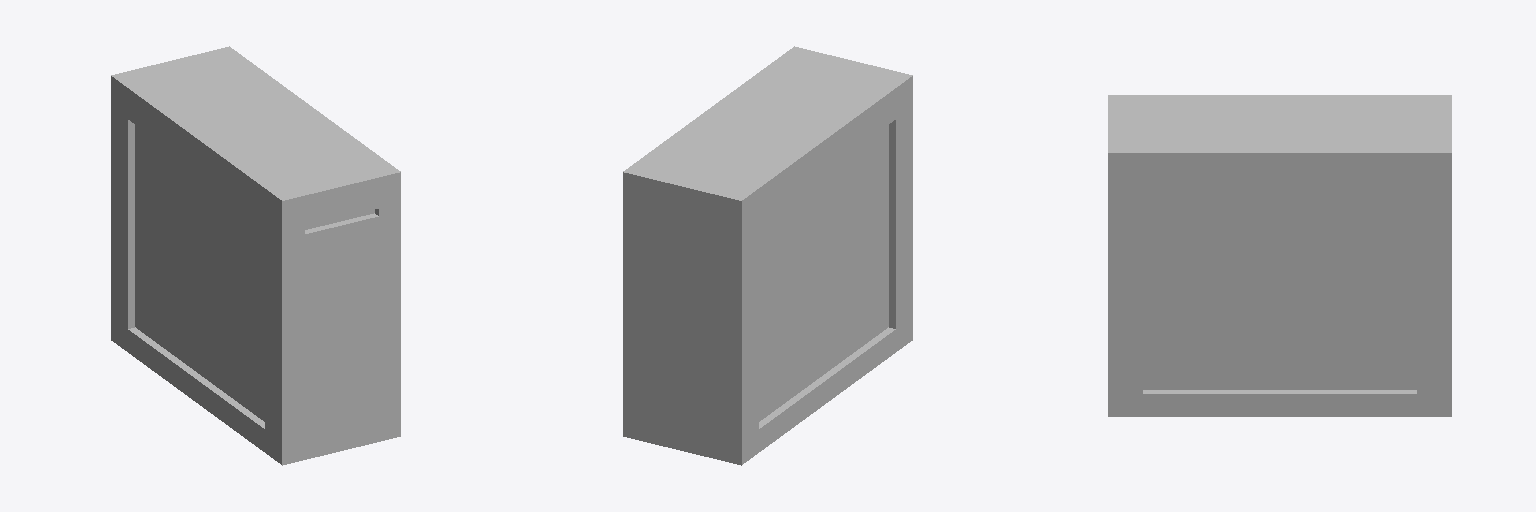
3 renders of one model, left to right at view 1: azimuth 30°, elevation 25°; view 2: azimuth 150°, elevation 25°; view 3: azimuth 270°, elevation 25°, orthographic.
Parts seen in each view (by area): view 1: PC; view 2: PC; view 3: PC.
Boxes of the visible parts, x1=… form: PC: x1=111, y1=46, x2=400, y2=465; PC: x1=623, y1=46, x2=912, y2=465; PC: x1=1108, y1=95, x2=1451, y2=416.
Size of the model in its own units: 16 by 34 by 40.